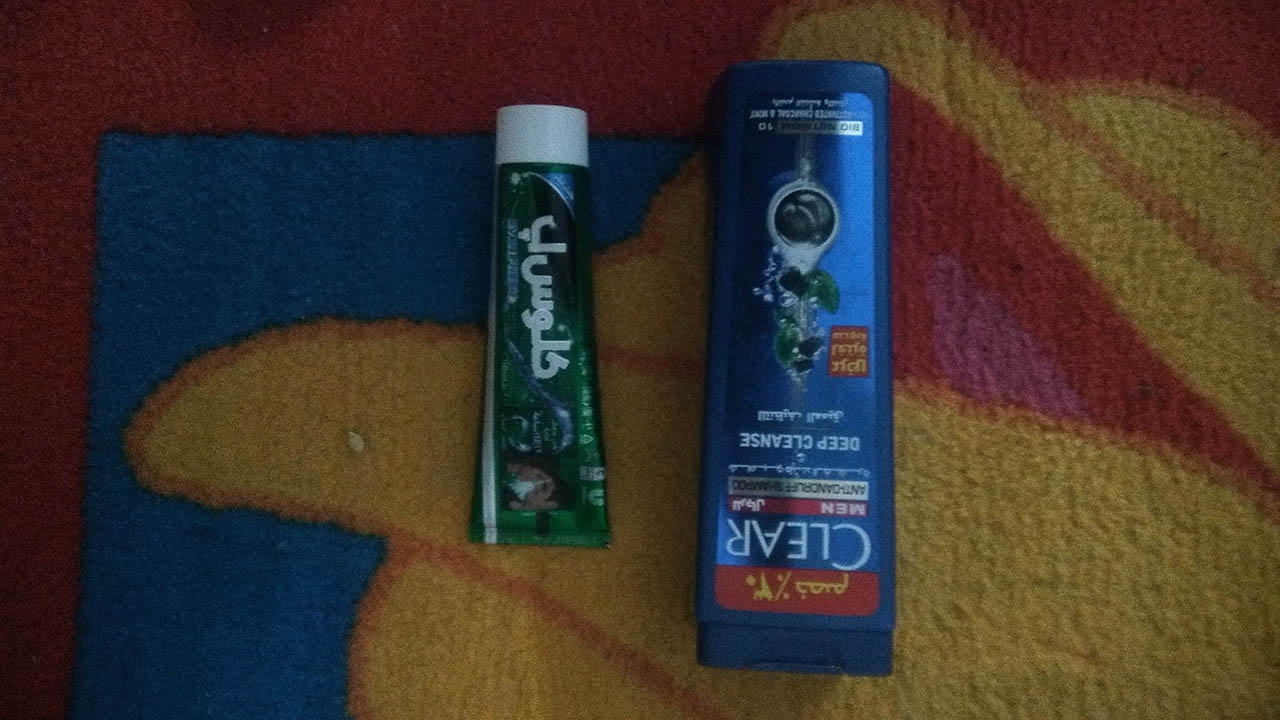Shampoo-Clear 4.7$: (686, 44, 912, 685)
Toothpaste-Closeup 3.04$: (457, 81, 636, 558)
